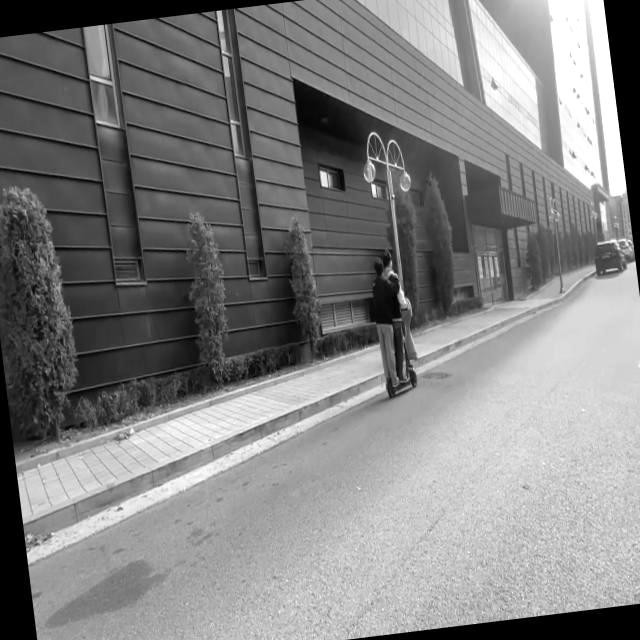bare_head: (373, 257, 387, 278), (382, 250, 395, 271)
human: (381, 250, 411, 383), (371, 255, 399, 388)
kickboard: (384, 366, 420, 402)
